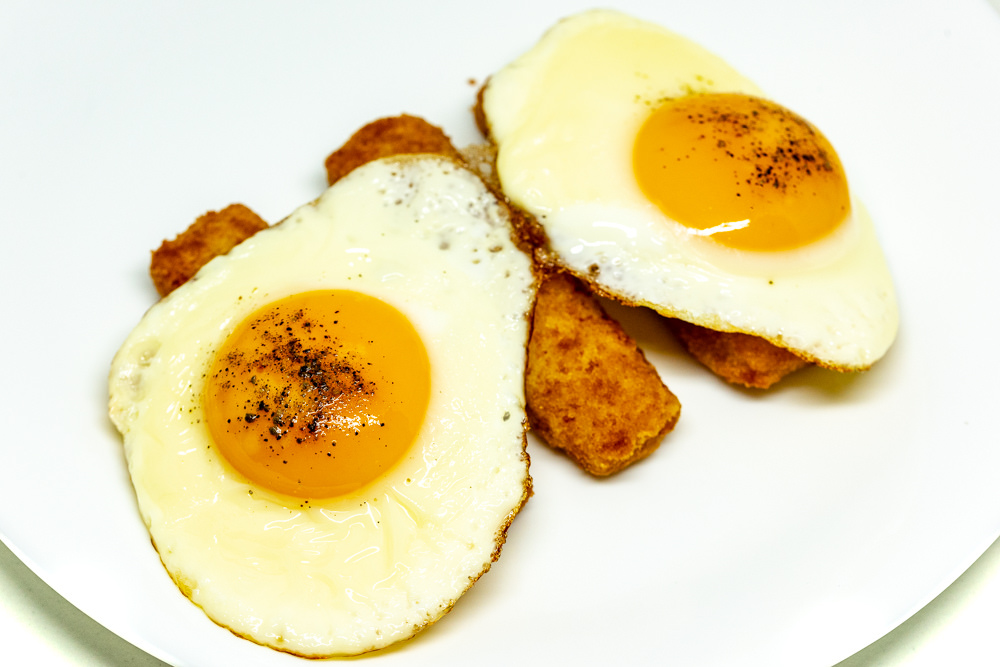fried egg: (96, 217, 552, 657), (487, 13, 936, 375)
